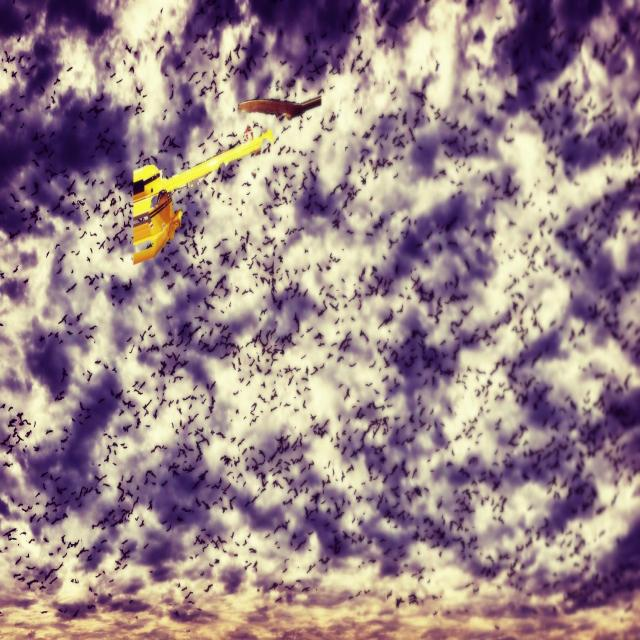airplane: (131, 127, 274, 265), (239, 95, 321, 120)
